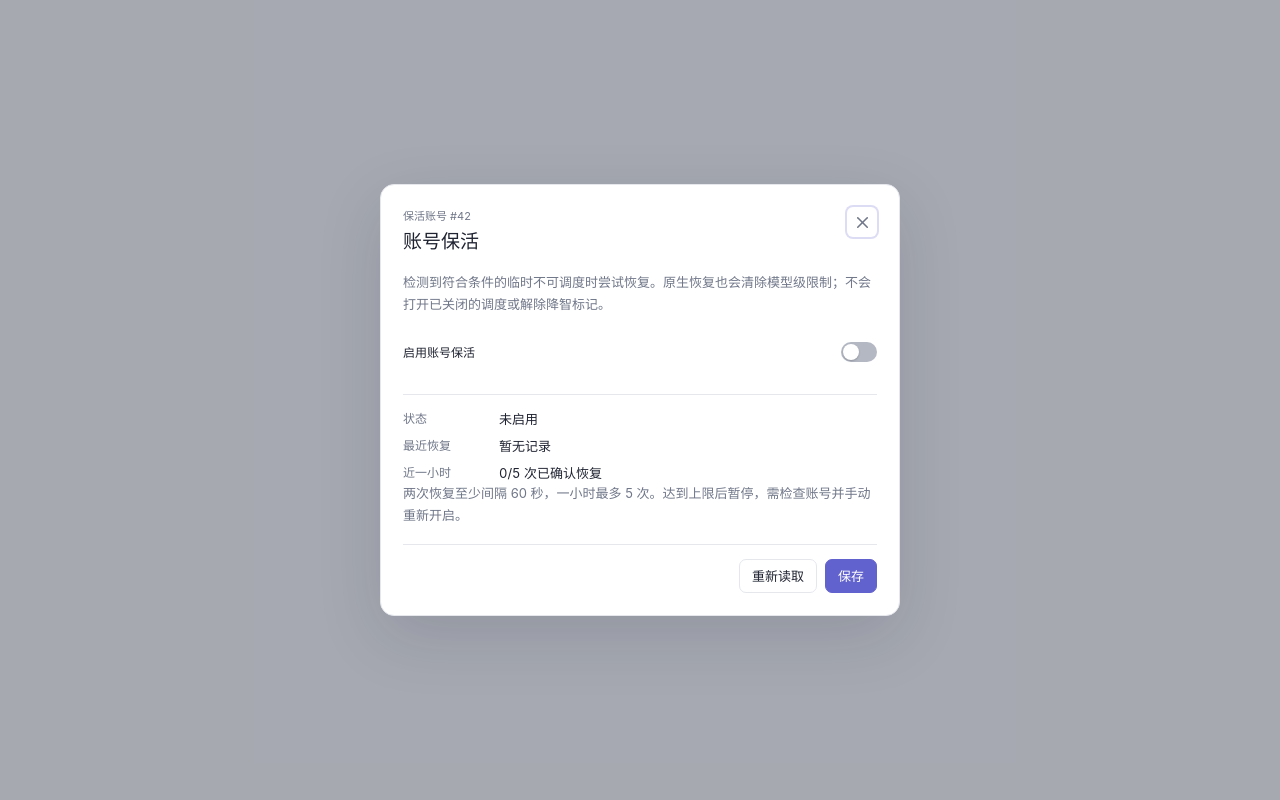
Scenario: account keepalive › lets a 409 be followed by a fresh read of the server value
Click the checkbox labelled "启用账号保活". click: (859, 352)
box: top-left (841, 342), bottom-right (877, 362)
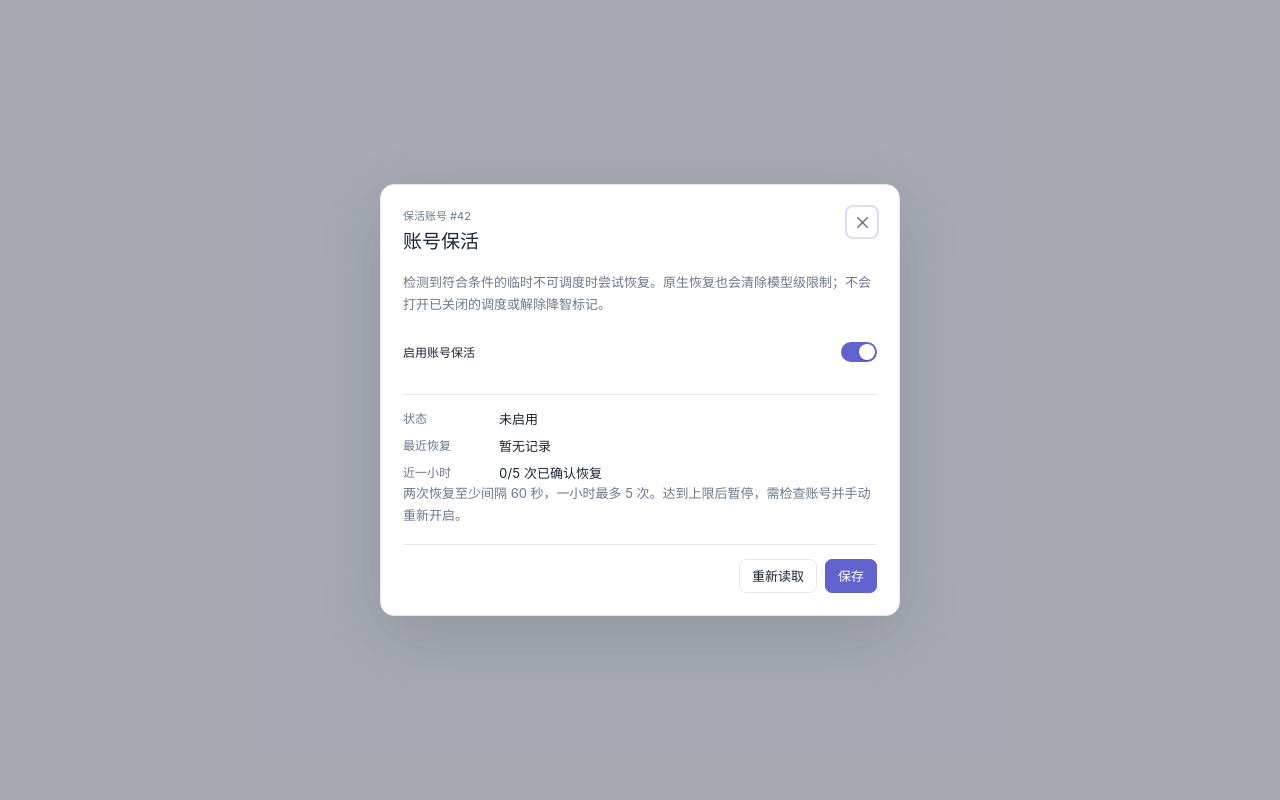
Click the button "保存". click: (851, 576)
box: top-left (825, 559), bottom-right (877, 593)
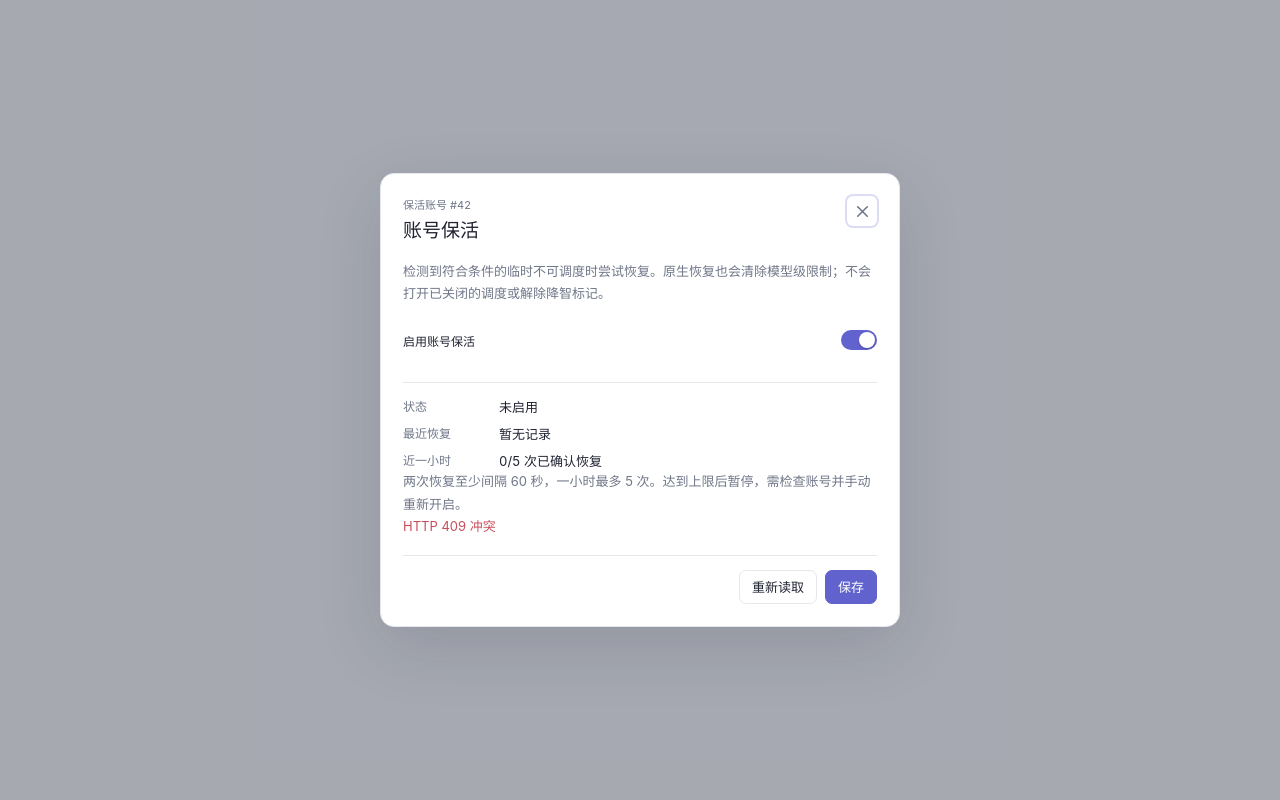
Now the message "HTTP 409 冲突" is shown, box top-left (403, 518), bottom-right (496, 534)
Click the button "重新读取". click: (778, 587)
box: top-left (739, 570), bottom-right (817, 604)
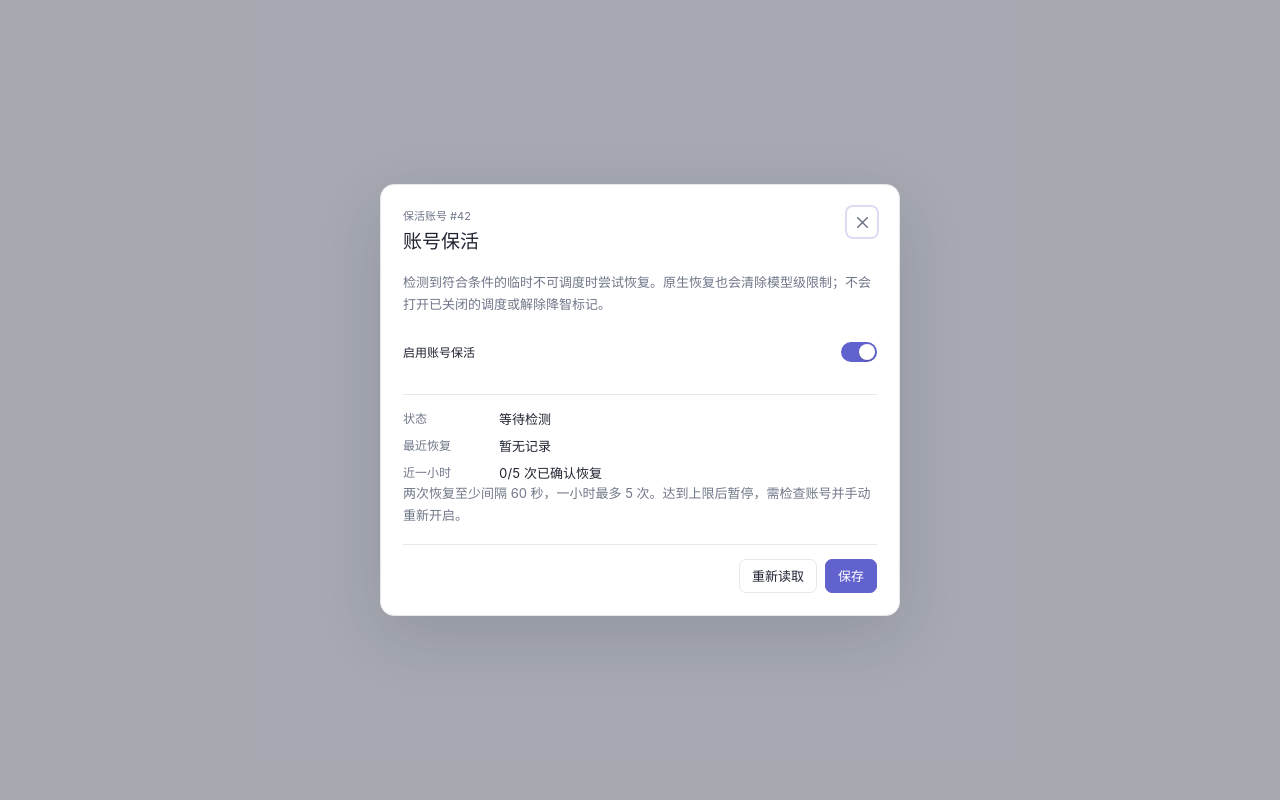
Now the checkbox labelled "启用账号保活" is checked, box top-left (841, 342), bottom-right (877, 362)
Now the message "HTTP 409 冲突" is gone
